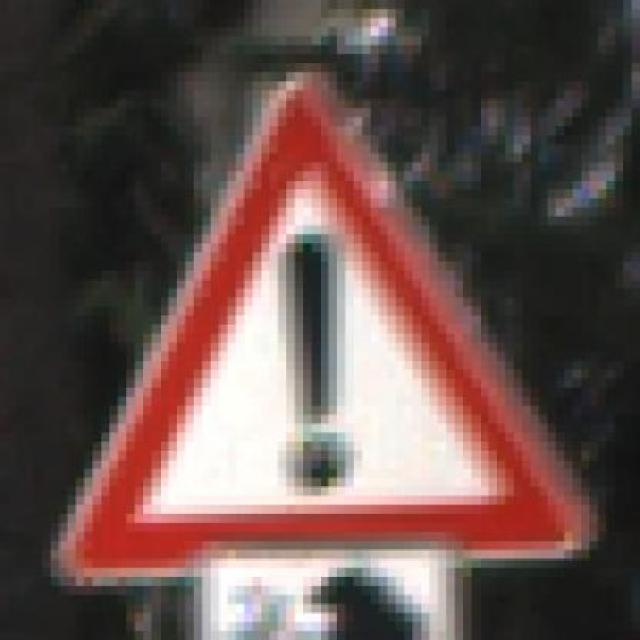Attention Please-: (34, 71, 606, 568)
